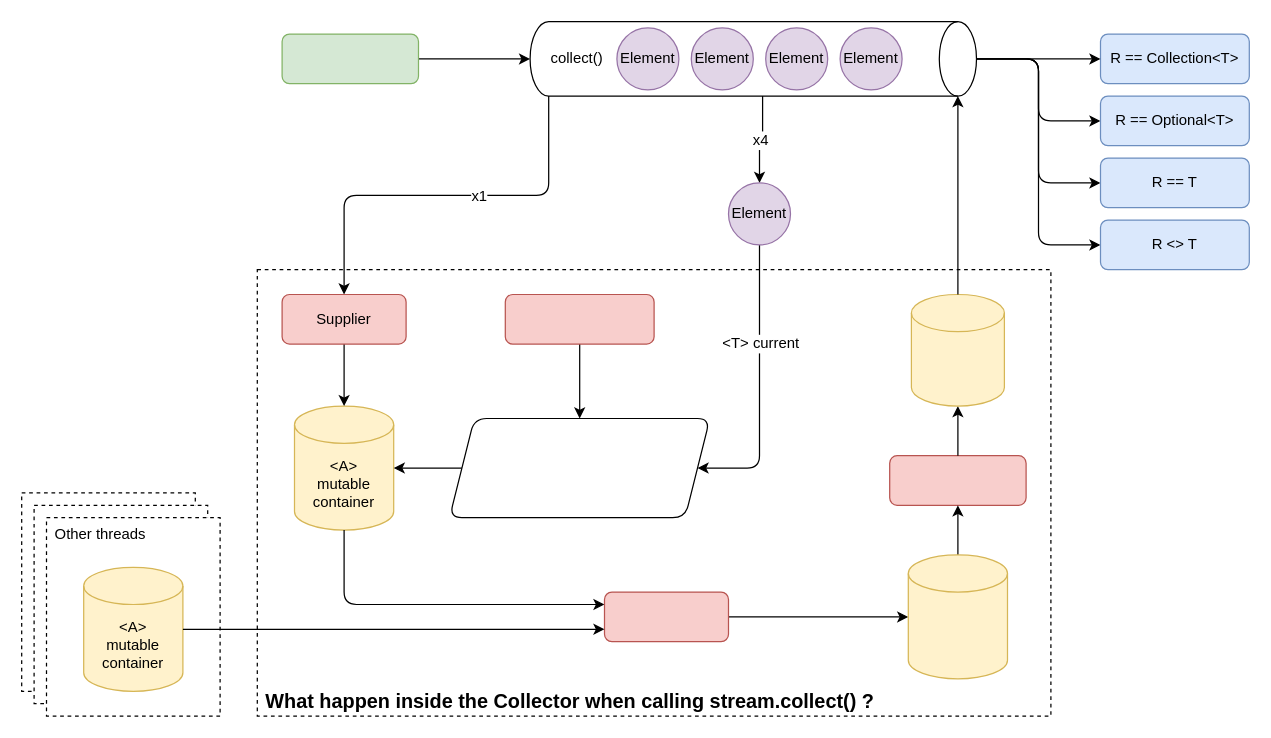
Image size: 1271x738. Some labels were removed from this diagram. The centre of each missing label's shape, as x and y in pixels:
"<A> combined container" belongs at point (957, 616).
"<R> result container" belongs at point (957, 349).
"accumulate e.g. List.add(current) Map.put(current.key, current)" belongs at point (579, 467).
"Accumulator" belongs at point (579, 318).
"Combiner" belongs at point (665, 616).
"Finisher" belongs at point (957, 479).
"Stream<T>" belongs at point (349, 58).
